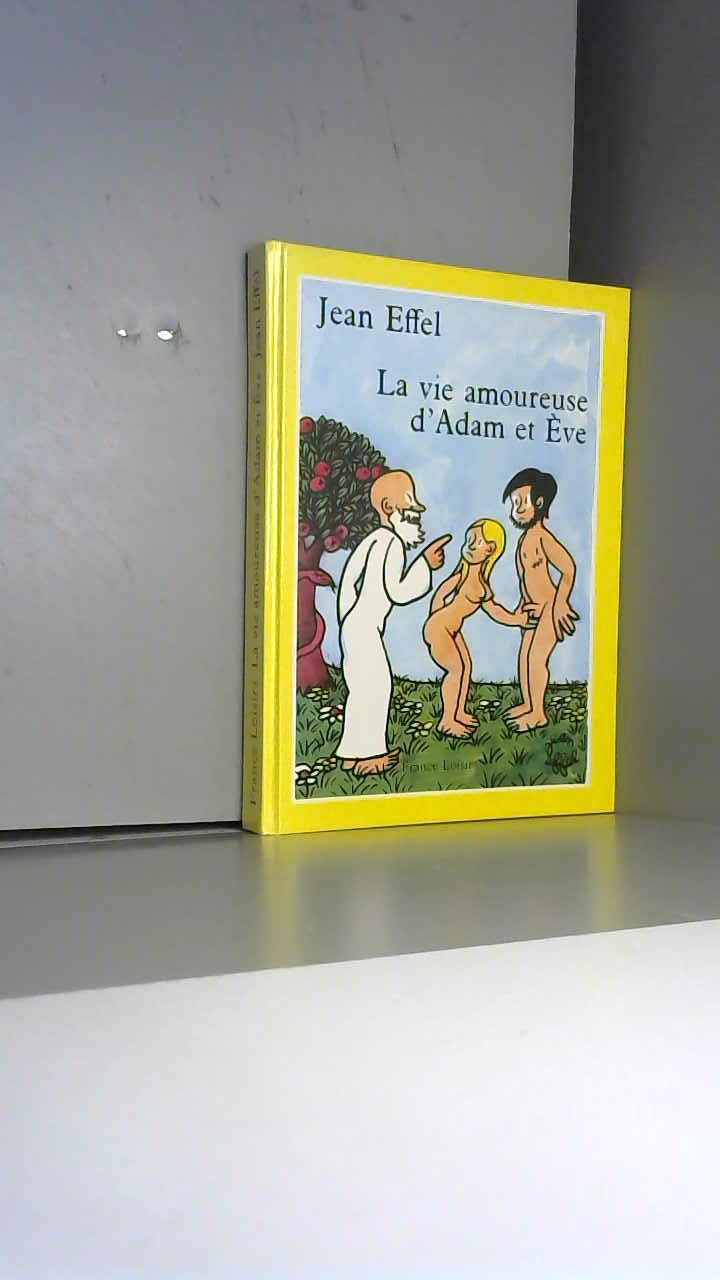book: (210, 210, 720, 936)
